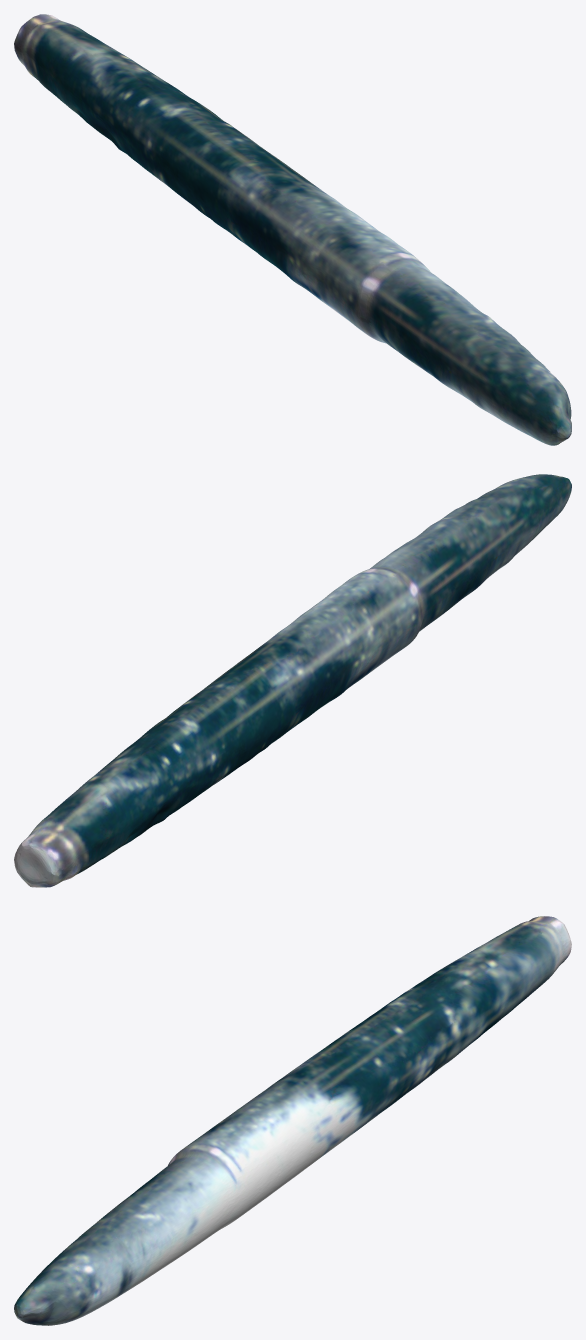
The model's file is scan_align.obj.
3 renders of one model, top to bottom at view 1: azimuth 30°, elevation 25°; view 2: azimuth 150°, elevation 25°; view 3: azimuth 330°, elevation 25°, orthographic. The views are drawn at different scales.
Size of the model in its own units: 0.00994 by 0.01 by 0.1192.
1 material, 1 textured.
